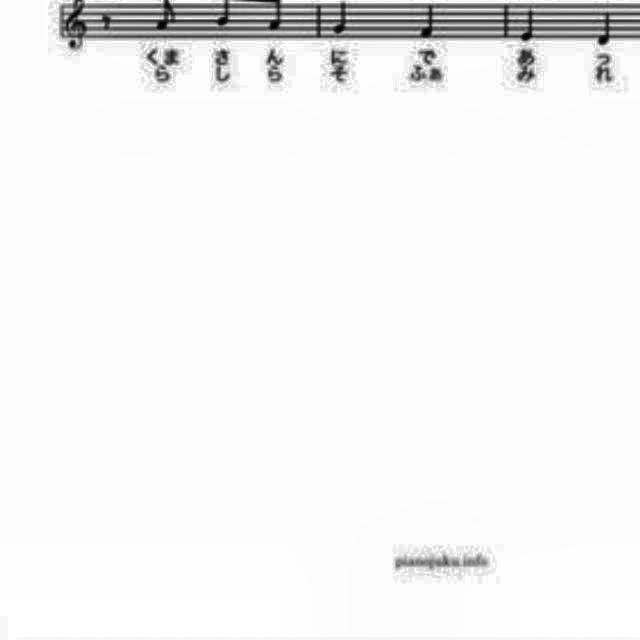Eighth-note: (151, 0, 181, 36)
Eighth-rest: (100, 12, 116, 34)
Quarter-note: (592, 5, 620, 50), (414, 0, 442, 44), (516, 1, 542, 44), (329, 0, 349, 38)
Treble-clef: (61, 0, 90, 54)
